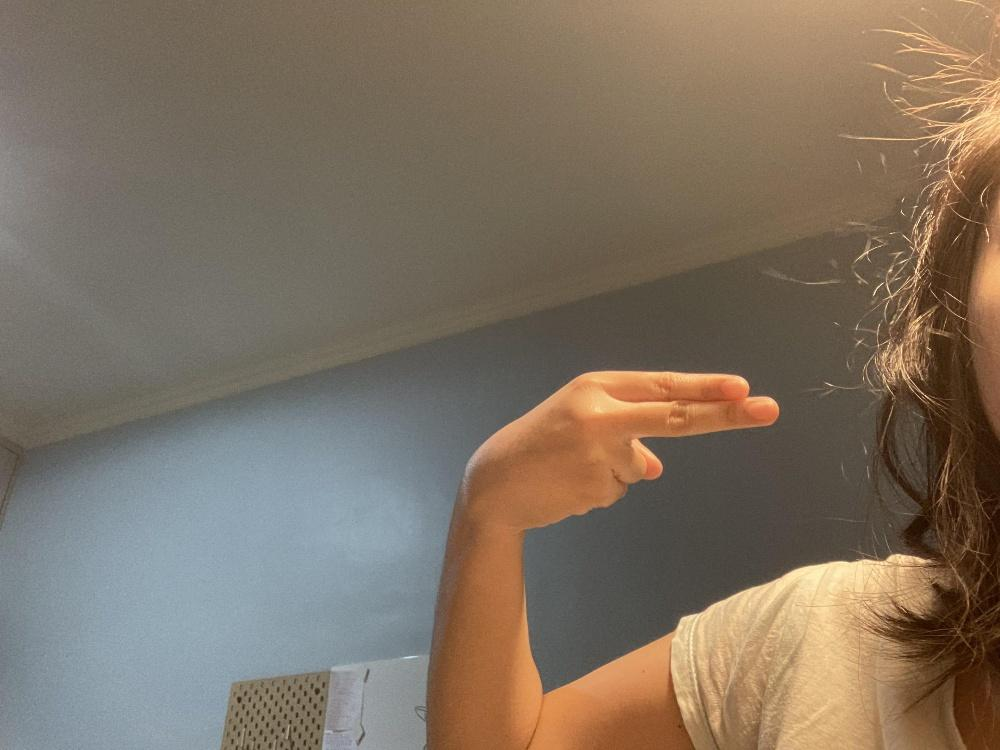h: (473, 369, 779, 529)
